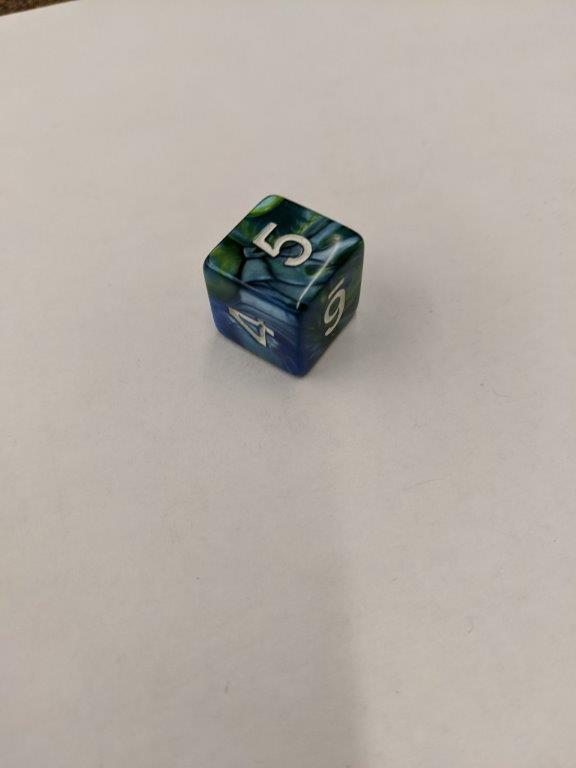d6-5: (202, 194, 365, 377)
